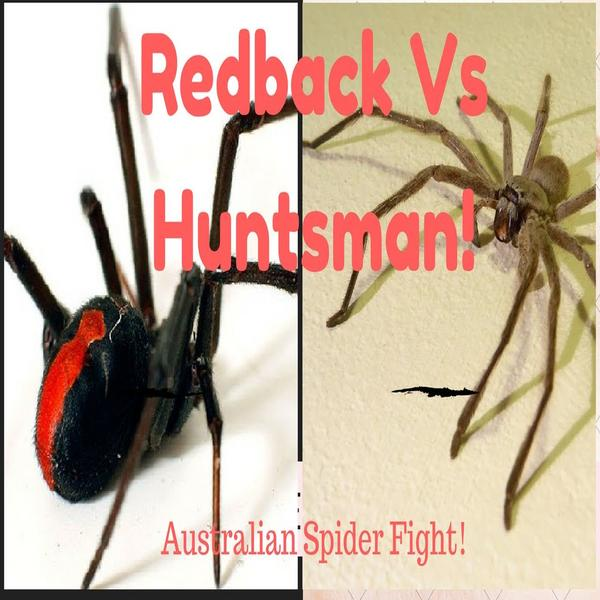Redback Spider: (7, 7, 283, 586)
